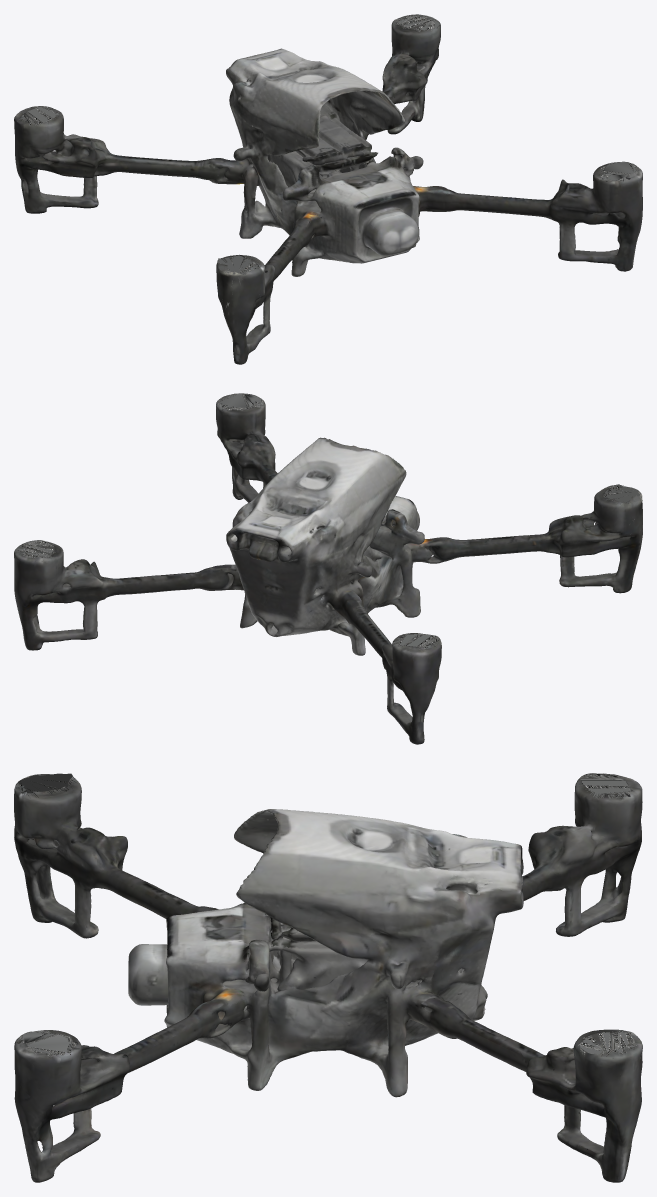
Rendered from drone3.glb.
3 renders of one model, top to bottom at view 1: azimuth 30°, elevation 25°; view 2: azimuth 150°, elevation 25°; view 3: azimuth 270°, elevation 25°, orthographic. The views are drawn at different scales.
Visible parts, largest first — view 1: Mesh_0; view 2: Mesh_0; view 3: Mesh_0.
Part boxes in pixels (bbox=[...]): Mesh_0: bbox=[14, 14, 642, 364]; Mesh_0: bbox=[14, 393, 642, 744]; Mesh_0: bbox=[14, 773, 642, 1182].
Size of the model in its own units: 1.3 by 0.4924 by 1.21.
1 material, 1 textured.
